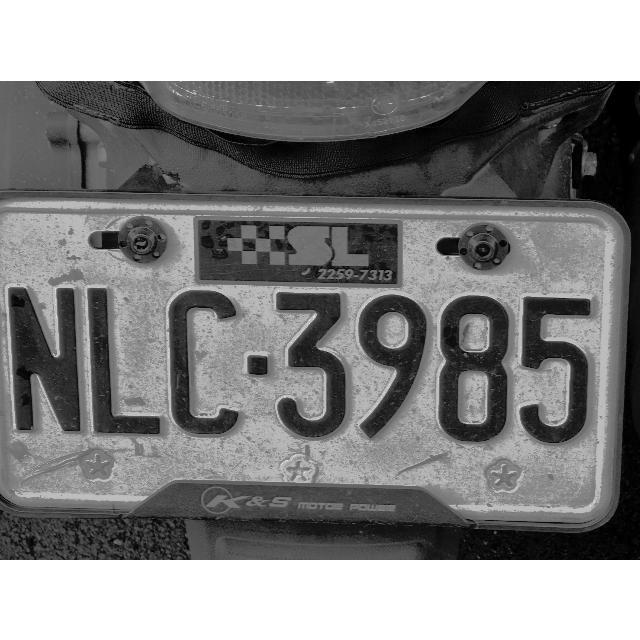-: (244, 347, 272, 383)
3: (272, 286, 348, 444)
5: (517, 291, 595, 445)
8: (439, 289, 511, 445)
9: (356, 288, 428, 448)
C: (166, 282, 242, 440)
L: (84, 278, 164, 448)
N: (5, 281, 85, 437)
